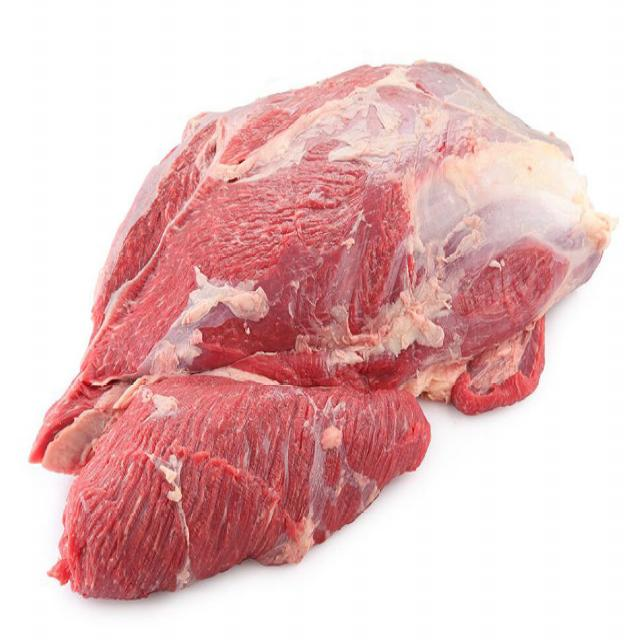pork: (43, 47, 619, 604)
